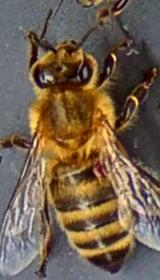varroa_mite: (89, 153, 120, 178)
